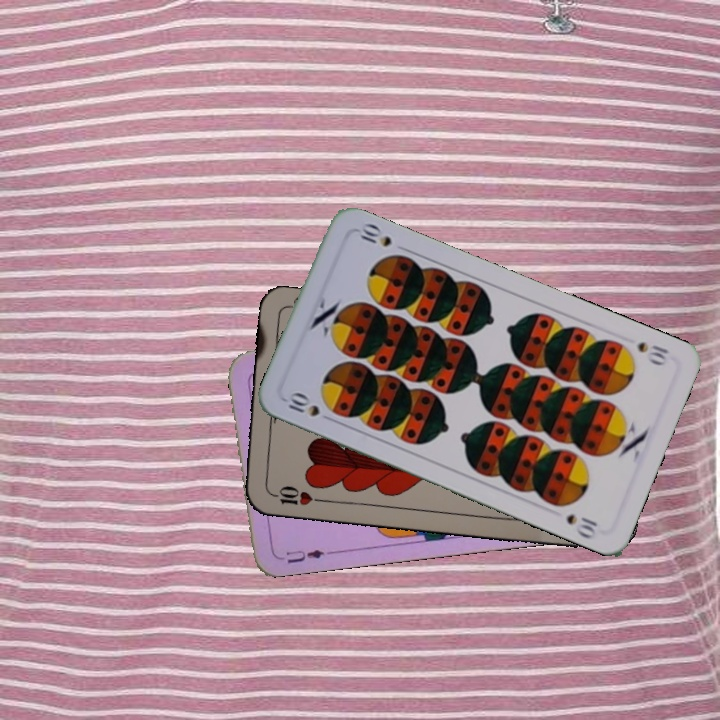EU: (274, 545, 333, 566)
H10: (265, 482, 324, 508)
S10: (281, 388, 337, 425), (633, 337, 672, 368)
